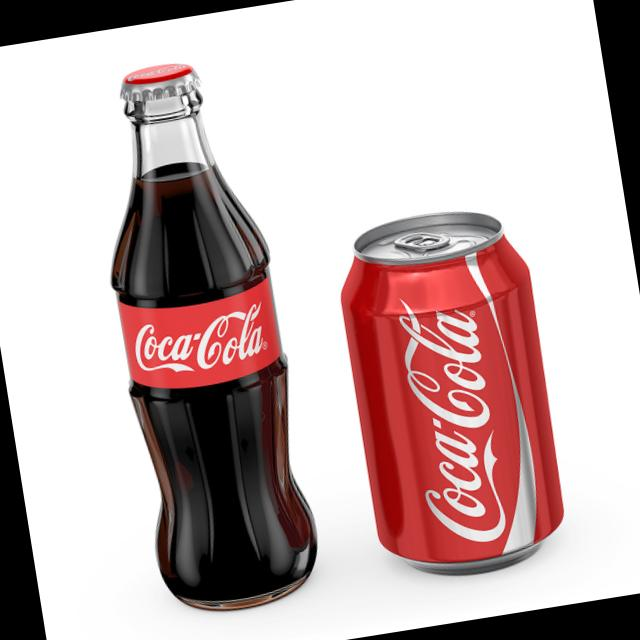cocacola: (322, 187, 582, 591)
